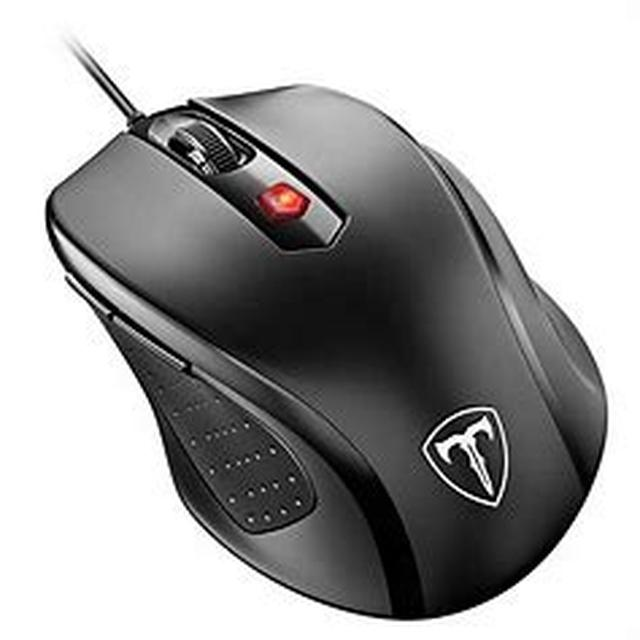mouse: (22, 73, 612, 624)
